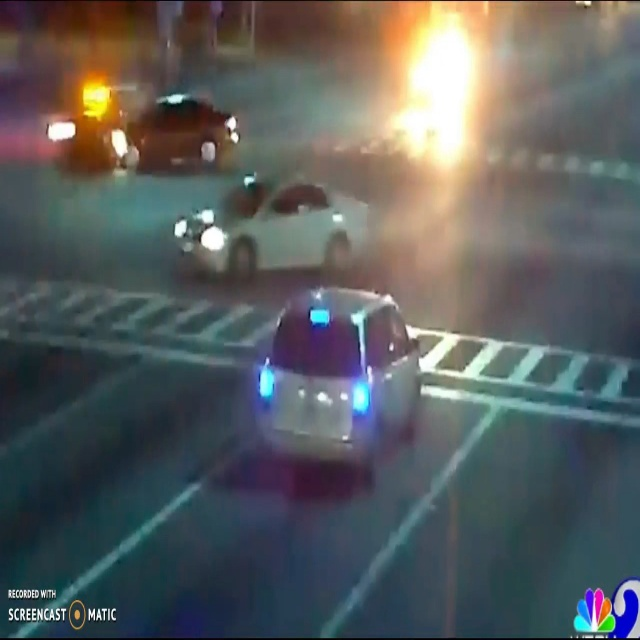acc: (35, 71, 248, 172)
